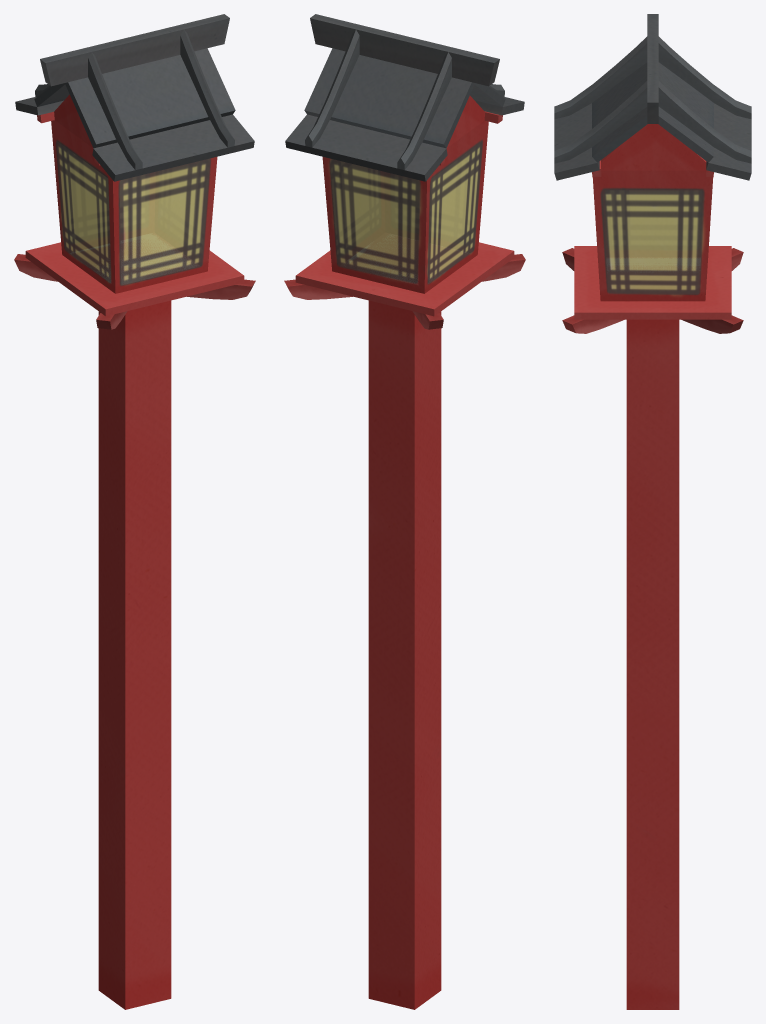
Rendered from Lantern.fbx.
The picture shows the model from 3 angles, left to right: view 1: azimuth 30°, elevation 25°; view 2: azimuth 150°, elevation 25°; view 3: azimuth 270°, elevation 25°; orthographic projection.
Visible parts, largest first — view 1: polySurface1; view 2: polySurface1; view 3: polySurface1.
Part boxes in pixels (box(x1,y1,x2,y2)): polySurface1: box(14, 14, 255, 1009); polySurface1: box(284, 14, 525, 1009); polySurface1: box(554, 14, 751, 1009).
Size of the model in its own units: 200 by 990 by 188.
2 materials, 2 textured.
